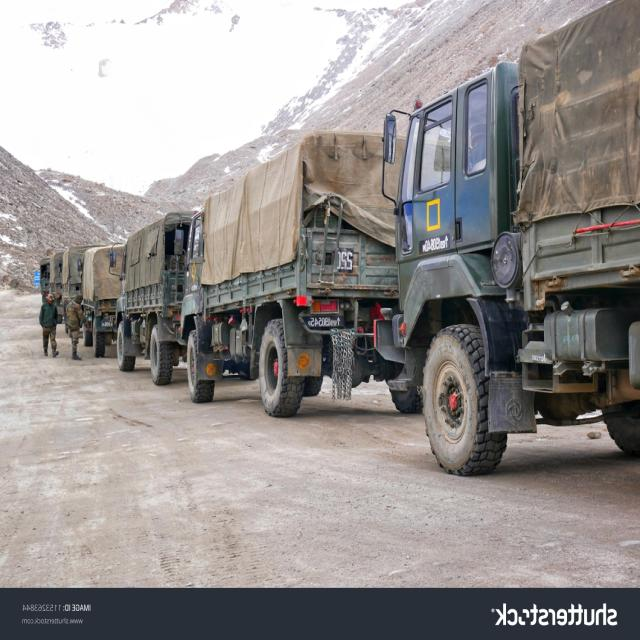truck: (375, 0, 640, 474), (172, 131, 400, 417), (115, 211, 194, 385)
